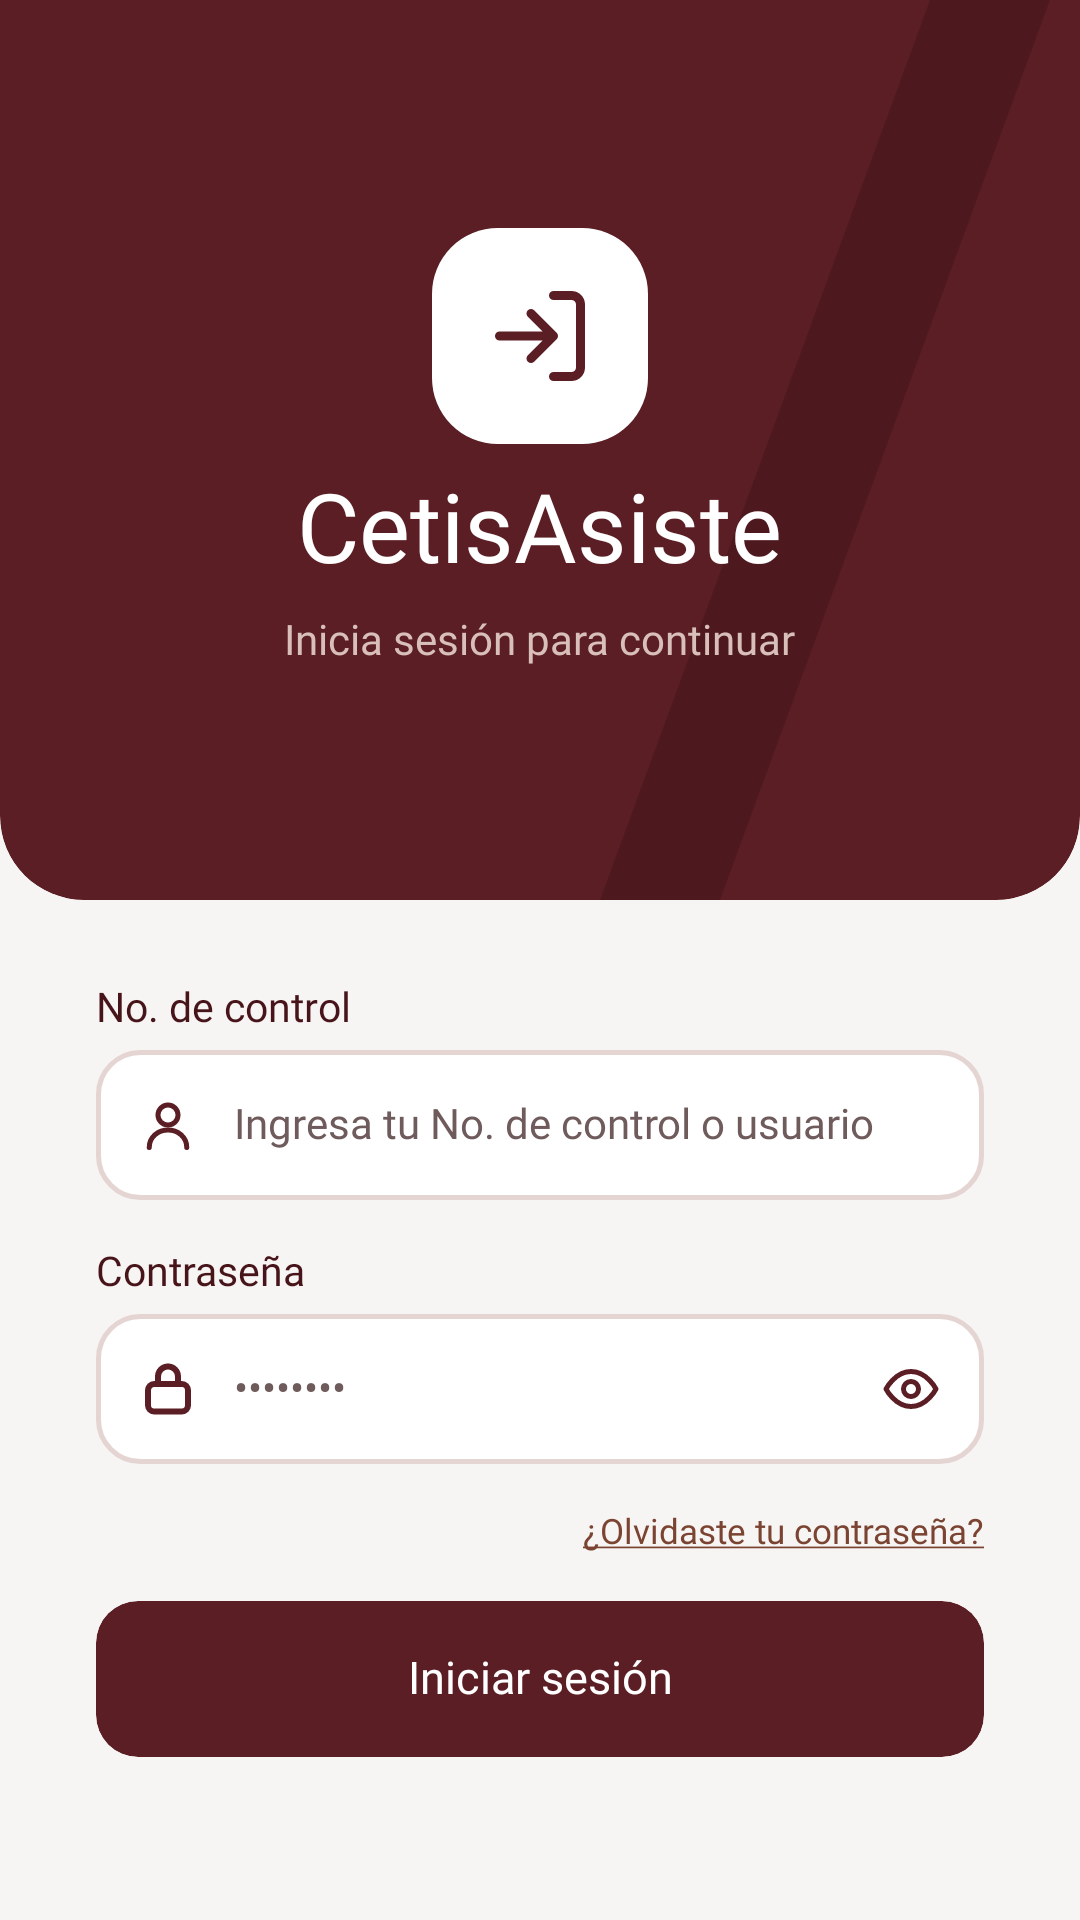

Named icons in this screenshot (1080px×1920px) and their bounding boxes, (x1, y1, x2, y2):
log in brand: (495, 291, 585, 381)
